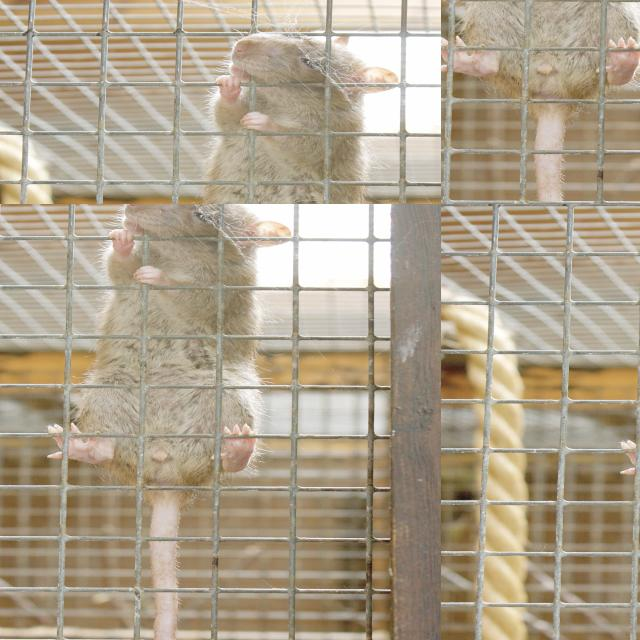rat: (413, 207, 437, 239)
